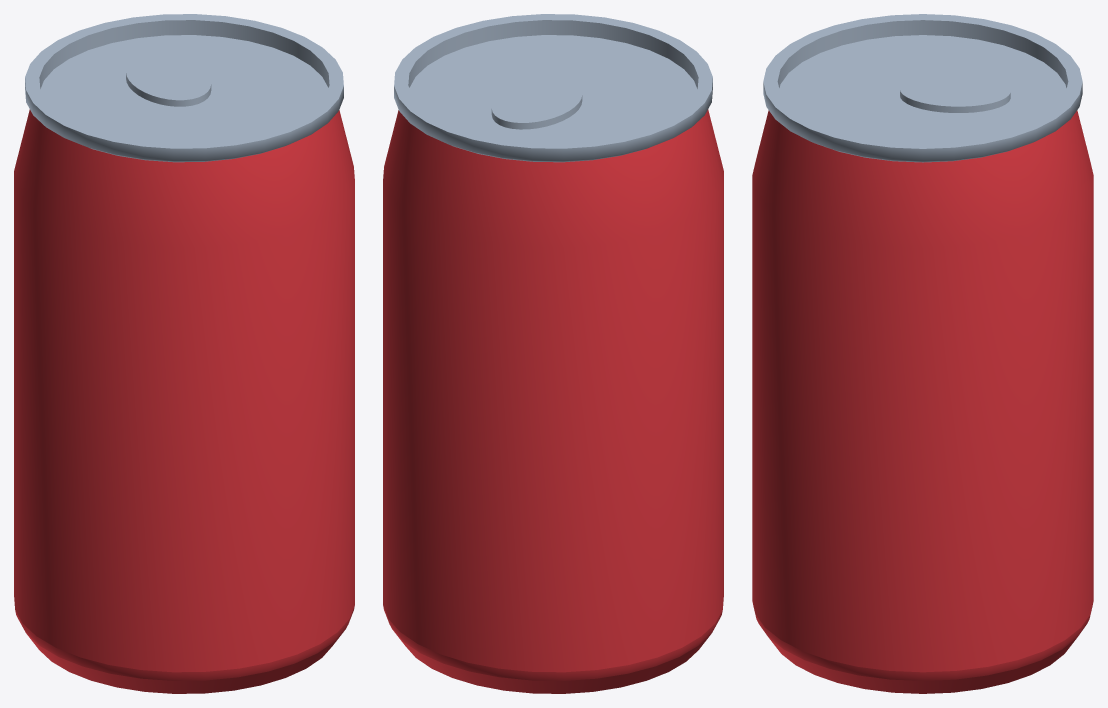
The model's file is CanBeer.fbx.
3 views of the same model, side by side, from view 1: azimuth 30°, elevation 25°; view 2: azimuth 150°, elevation 25°; view 3: azimuth 270°, elevation 25° (orthographic).
Parts seen in each view (by area): view 1: OneBeer; view 2: OneBeer; view 3: OneBeer.
Boxes of the visible parts, x1,y1,x2,y2 form: OneBeer: [14, 14, 354, 693]; OneBeer: [383, 14, 723, 693]; OneBeer: [752, 14, 1093, 693].
Size of the model in its own units: 71.8 by 127 by 71.8.
